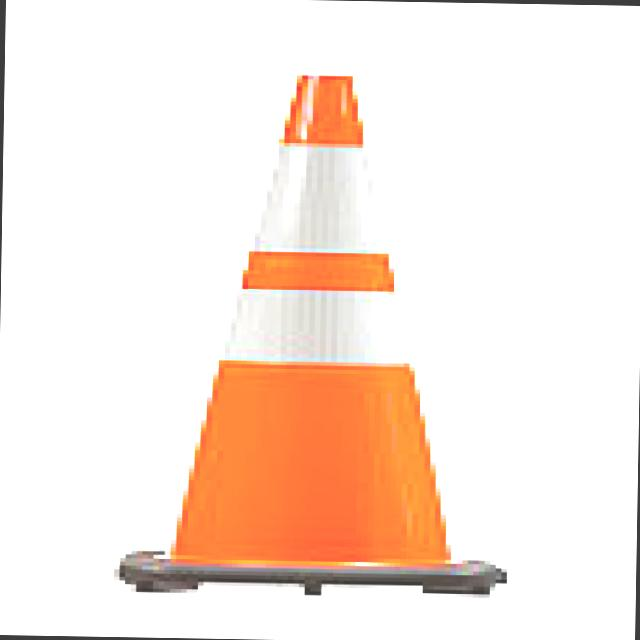cone: (70, 44, 552, 611)
